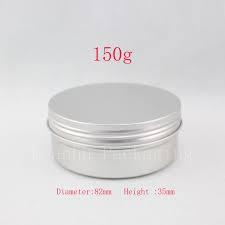Tin: (34, 75, 198, 185)
